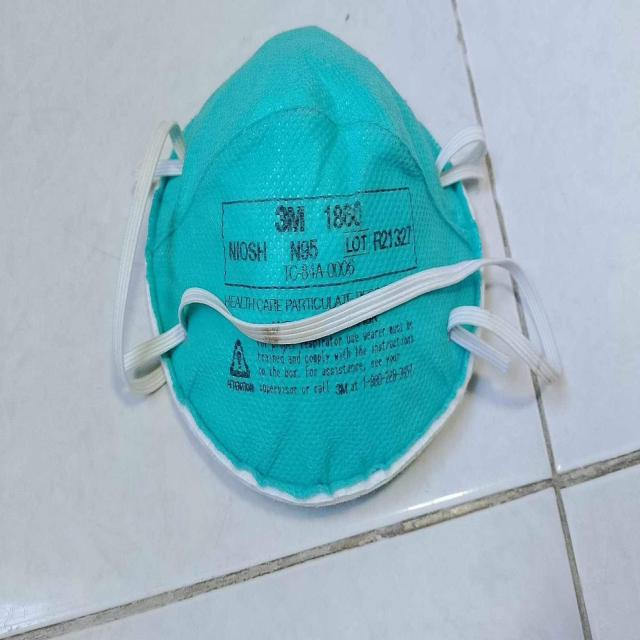General: (112, 23, 561, 511)
Sharps: (122, 254, 562, 394)
